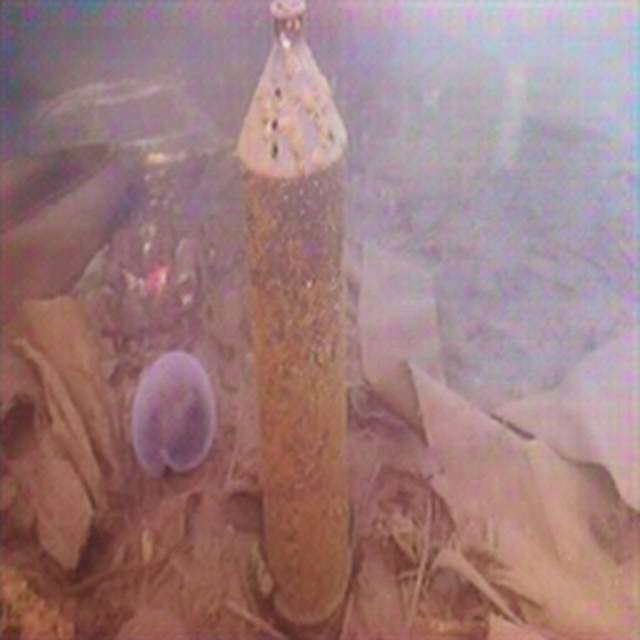mine: (236, 0, 352, 624)
